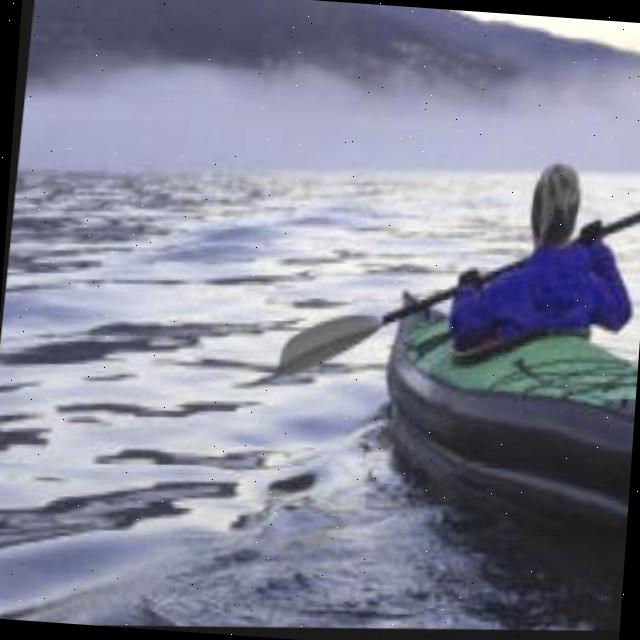kayak: (374, 291, 637, 544)
